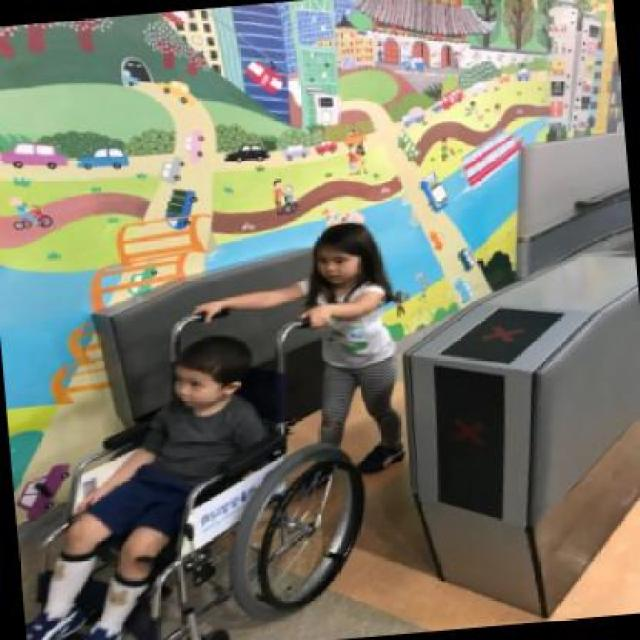obstacle: (2, 303, 376, 639), (193, 218, 405, 484)
